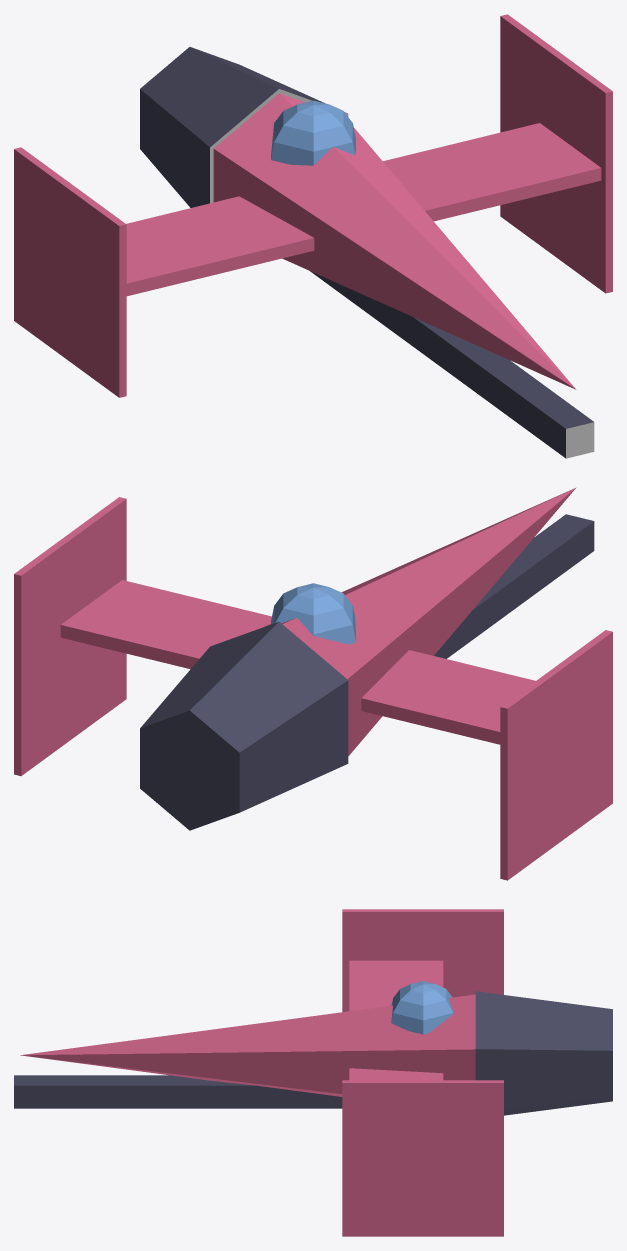
The model's file is red-ship.gltf.
3 views of the same model, one above another, from view 1: azimuth 30°, elevation 25°; view 2: azimuth 150°, elevation 25°; view 3: azimuth 270°, elevation 25° (orthographic). The views are drawn at different scales.
Parts seen in each view (by area): view 1: Fuselage 1, Wing 1, Fin 1, Fin 2, Engine 1, Weapon 1, Cockpit 1; view 2: Engine 1, Fin 2, Fin 1, Wing 1, Fuselage 1, Weapon 1, Cockpit 1; view 3: Fin 2, Fuselage 1, Engine 1, Fin 1, Weapon 1, Wing 1, Cockpit 1.
Part boxes in pixels (x1=…): Fuselage 1: x1=213, y1=93, x2=576, y2=389; Wing 1: x1=126, y1=123, x2=601, y2=296; Fin 1: x1=14, y1=147, x2=126, y2=397; Fin 2: x1=500, y1=14, x2=612, y2=293; Engine 1: x1=140, y1=47, x2=348, y2=207; Weapon 1: x1=310, y1=271, x2=594, y2=458; Cockpit 1: x1=271, y1=100, x2=355, y2=165; Engine 1: x1=140, y1=621, x2=348, y2=830; Fin 2: x1=14, y1=497, x2=126, y2=775; Fin 1: x1=500, y1=630, x2=612, y2=880; Wing 1: x1=60, y1=580, x2=535, y2=744; Fuselage 1: x1=265, y1=487, x2=576, y2=756; Weapon 1: x1=434, y1=514, x2=594, y2=658; Cockpit 1: x1=271, y1=583, x2=355, y2=644; Fin 2: x1=342, y1=1080, x2=503, y2=1236; Fuselage 1: x1=20, y1=994, x2=475, y2=1096; Engine 1: x1=475, y1=991, x2=612, y2=1115; Fin 1: x1=342, y1=909, x2=503, y2=1012; Weapon 1: x1=14, y1=1075, x2=342, y2=1108; Wing 1: x1=349, y1=960, x2=443, y2=1080; Cockpit 1: x1=391, y1=981, x2=453, y2=1034.
Size of the model in its own units: 3.25 by 1.31 by 4.45.
